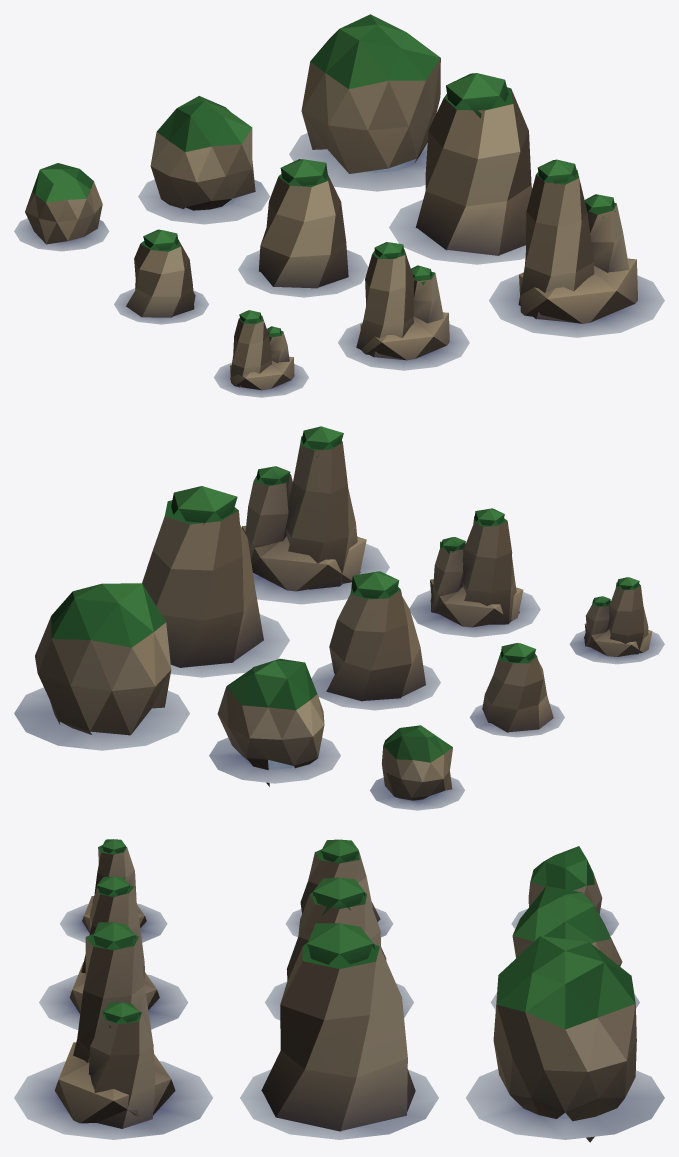
Rendered from mochima_rocks.glb.
3 renders of one model, top to bottom at view 1: azimuth 30°, elevation 25°; view 2: azimuth 150°, elevation 25°; view 3: azimuth 270°, elevation 25°, orthographic. The views are drawn at different scales.
Visible parts, largest first — view 1: rock_l_1, rock_l_2, rock_l_3, rock_m_1, rock_m_2, rock_m_3, rock_s_1, rock_s_2, rock_s_3; view 2: rock_l_1, rock_l_2, rock_l_3, rock_m_1, rock_m_2, rock_m_3, rock_s_1, rock_s_2, rock_s_3; view 3: rock_l_1, rock_l_2, rock_l_3, rock_m_3, rock_m_1, rock_m_2, rock_s_3, rock_s_1, rock_s_2.
Part boxes in pixels (x1,y1,x2,y2): rock_l_1: (289, 14, 440, 191); rock_l_2: (389, 73, 532, 264); rock_l_3: (489, 159, 664, 337); rock_m_1: (138, 96, 269, 224); rock_m_2: (238, 159, 368, 297); rock_m_3: (338, 242, 469, 370); rock_s_1: (14, 163, 109, 251); rock_s_2: (114, 229, 208, 324); rock_s_3: (214, 310, 308, 397); rock_l_1: (14, 583, 189, 750); rock_l_2: (142, 486, 289, 677); rock_l_3: (242, 426, 389, 604); rock_m_1: (209, 658, 340, 786); rock_m_2: (311, 571, 440, 710); rock_m_3: (409, 508, 540, 637); rock_s_1: (370, 725, 464, 810); rock_s_2: (469, 643, 564, 737); rock_s_3: (569, 577, 664, 664); rock_l_1: (466, 936, 664, 1142); rock_l_2: (240, 923, 438, 1139); rock_l_3: (14, 922, 212, 1139); rock_m_3: (39, 876, 188, 1029); rock_m_1: (490, 886, 639, 1009); rock_m_2: (265, 877, 413, 1020); rock_s_3: (60, 839, 167, 942); rock_s_1: (511, 846, 618, 935); rock_s_2: (285, 839, 393, 937).
Bounding box in the file's own units: 85.12 × 33.88 × 98.
